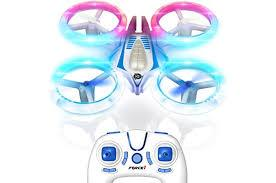drone: (36, 0, 239, 132)
